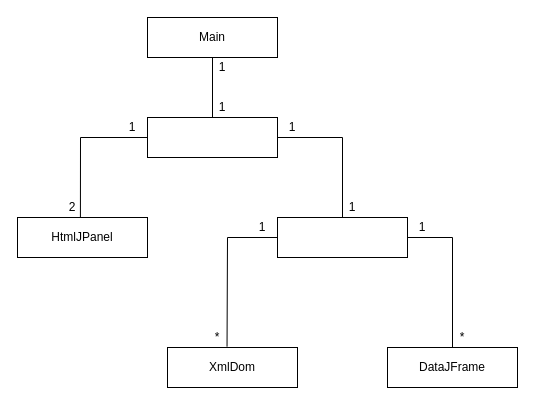
The diagram is 535 pixels wide and 405 high, and some of its shapes have lost their labels. Here are the shapes that lost their labels. From the top down, the centre of each, then its label:
pixel 212 137: MainJFrame
pixel 342 237: ParsingJPanel
